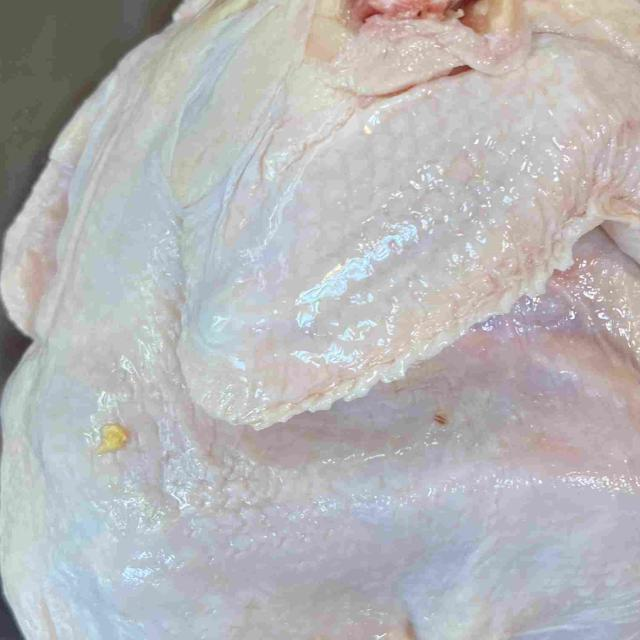back: (2, 0, 313, 640)
leg: (345, 377, 640, 640)
neck: (328, 0, 533, 96)
wing: (186, 39, 640, 420)
